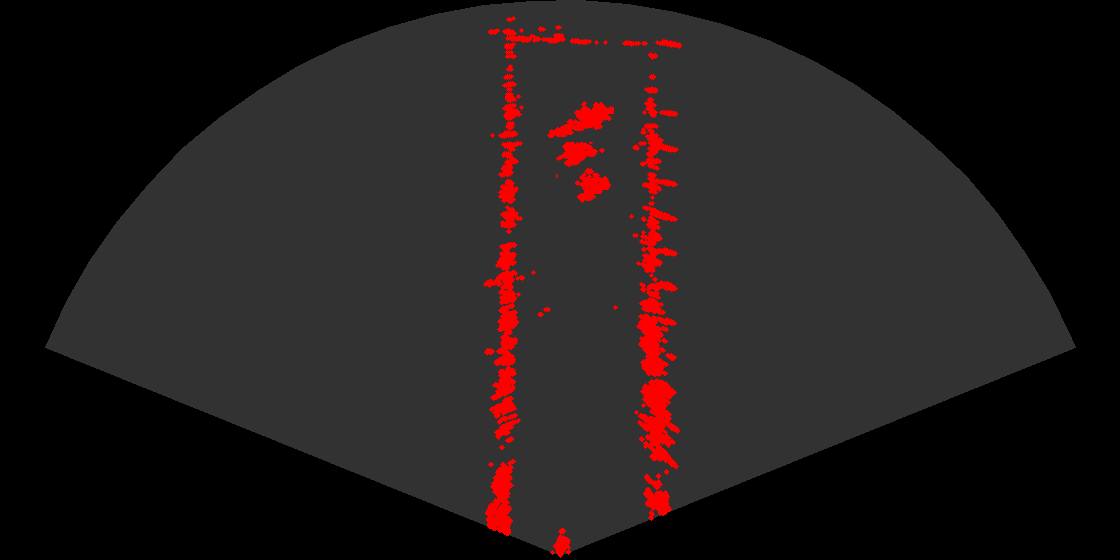cage: (556, 127, 619, 211)
frogman: (546, 95, 614, 142)
